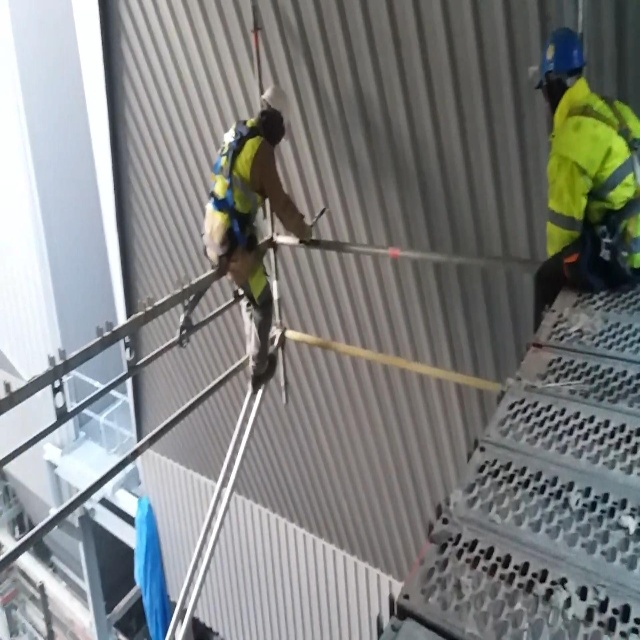Arnes_seguridad: (563, 81, 640, 269), (199, 122, 276, 273)
